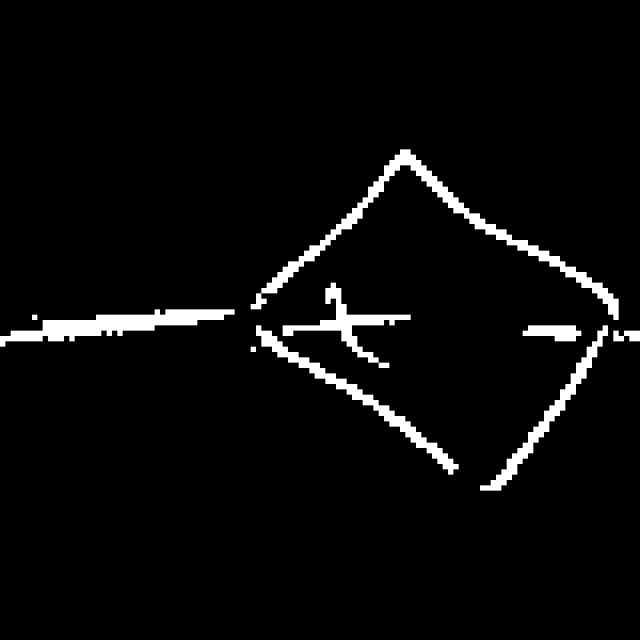dependant_voltage: (257, 145, 627, 498)
